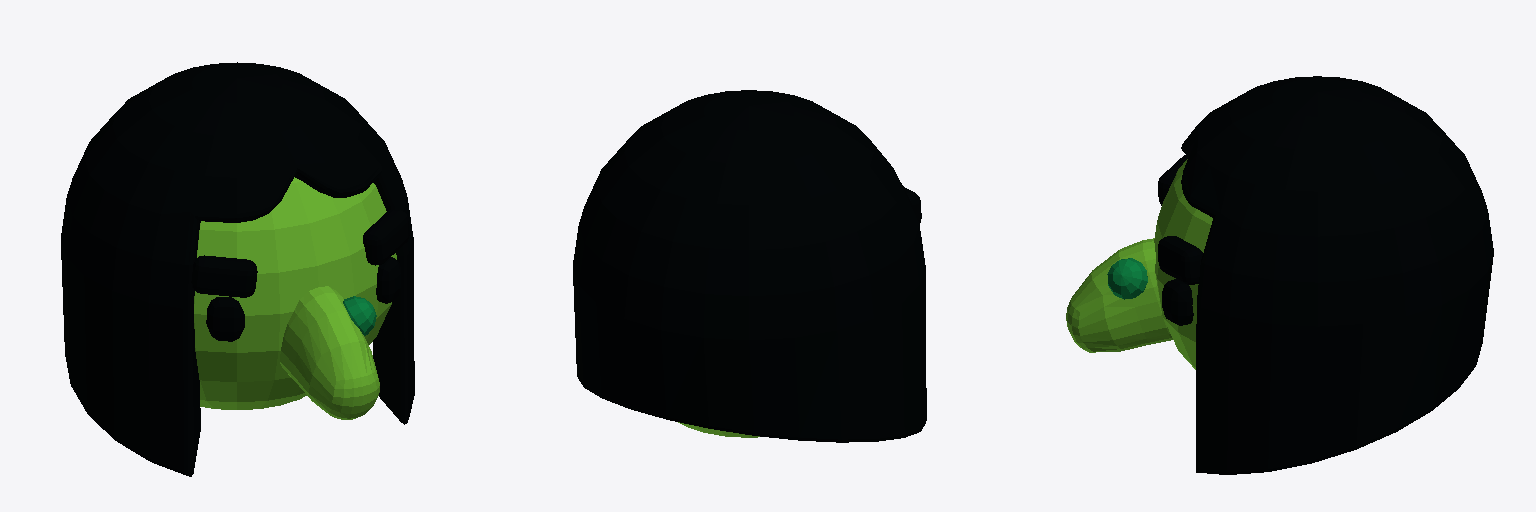
The model's file is character_witchHead.obj.
The picture shows the model from 3 angles: view 1: azimuth 30°, elevation 25°; view 2: azimuth 150°, elevation 25°; view 3: azimuth 270°, elevation 25°; orthographic projection.
Parts seen in each view (by area): view 1: character_witchHead_Cube.001; view 2: character_witchHead_Cube.001; view 3: character_witchHead_Cube.001.
Part boxes in pixels (bbox=[...]): character_witchHead_Cube.001: bbox=[61, 62, 414, 476]; character_witchHead_Cube.001: bbox=[573, 90, 926, 442]; character_witchHead_Cube.001: bbox=[1066, 76, 1493, 474].
Bounding box in the file's own units: 1.06 × 1.09 × 1.29.